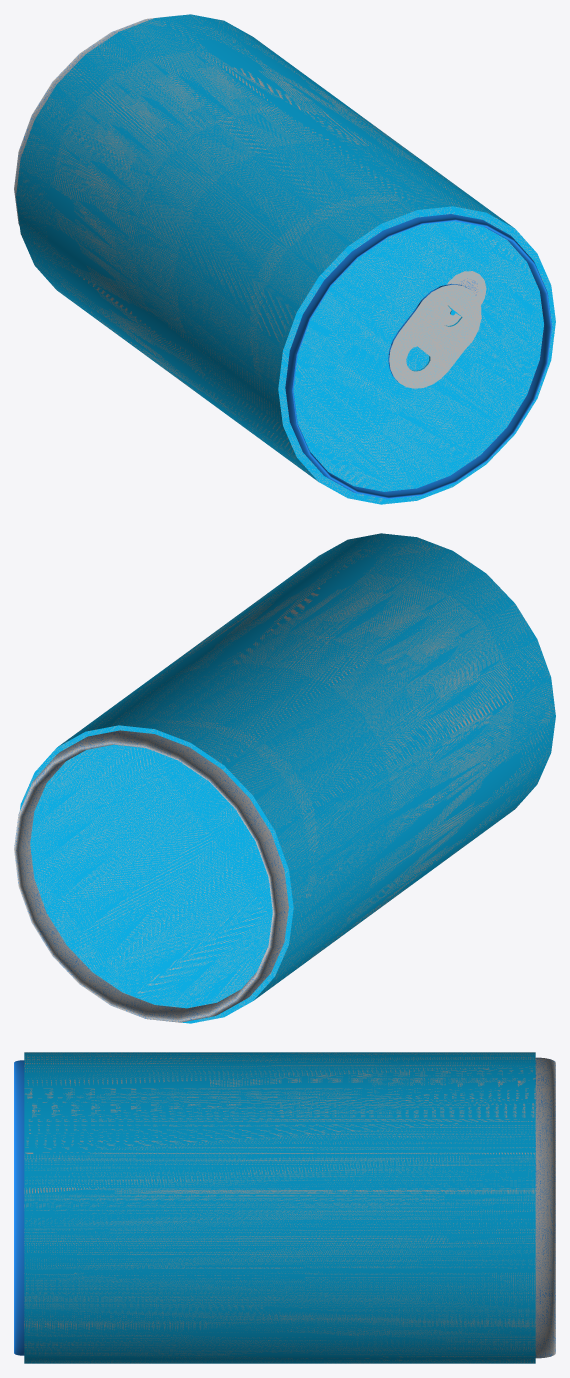
Rendered from model_scale.obj.
The picture shows the model from 3 angles, top to bottom: view 1: azimuth 30°, elevation 25°; view 2: azimuth 150°, elevation 25°; view 3: azimuth 270°, elevation 25°; orthographic projection. The views are drawn at different scales.
Parts seen in each view (by area): view 1: mesh1_mesh1-geometry, mesh3_mesh3-geometry, mesh4_mesh4-geometry, mesh2_mesh2-geometry; view 2: mesh1_mesh1-geometry, mesh2_mesh2-geometry; view 3: mesh1_mesh1-geometry, mesh2_mesh2-geometry, mesh3_mesh3-geometry.
Boxes of the visible parts, box(x1,y1,x2,y2) form: mesh1_mesh1-geometry: box(16, 14, 555, 504); mesh3_mesh3-geometry: box(285, 214, 552, 498); mesh4_mesh4-geometry: box(388, 283, 481, 388); mesh2_mesh2-geometry: box(14, 15, 179, 225); mesh1_mesh1-geometry: box(20, 533, 555, 1023); mesh2_mesh2-geometry: box(14, 730, 288, 1022); mesh1_mesh1-geometry: box(24, 1052, 535, 1363); mesh2_mesh2-geometry: box(535, 1057, 555, 1358); mesh3_mesh3-geometry: box(14, 1060, 24, 1355).
Size of the model in its own units: 0.0751 by 0.0751 by 0.1302.
